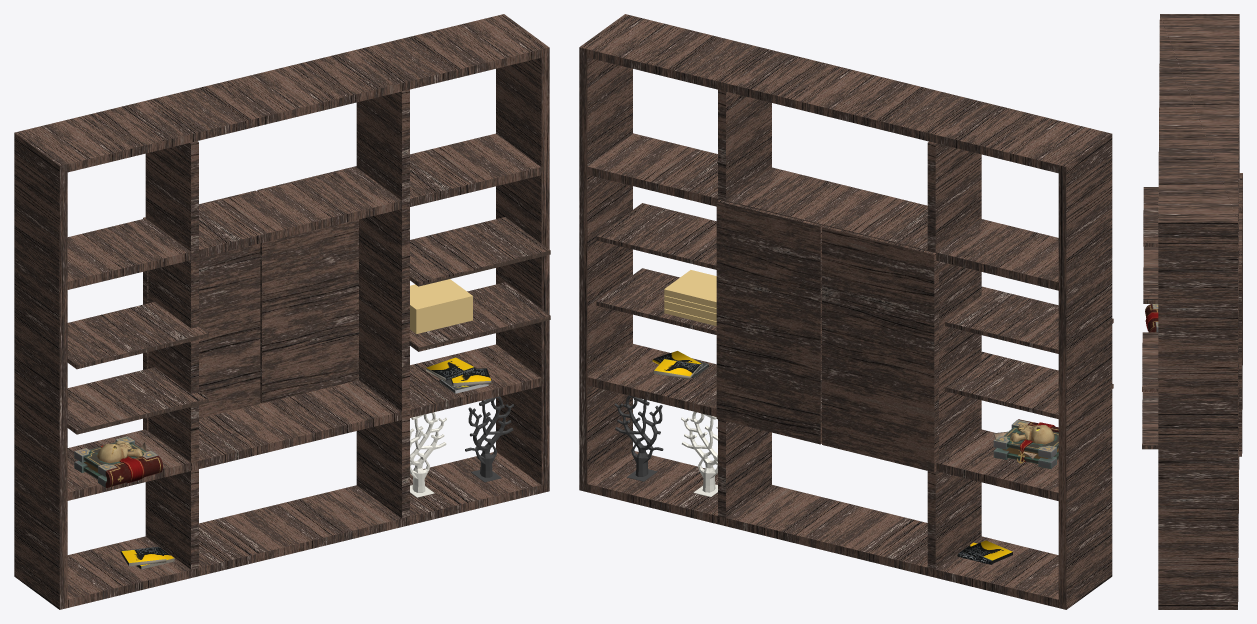
File: book shelf .fbx
The picture shows the model from 3 angles, left to right: view 1: azimuth 30°, elevation 25°; view 2: azimuth 150°, elevation 25°; view 3: azimuth 270°, elevation 25°; orthographic projection. The views are drawn at different scales.
Parts seen in each view (by area): view 1: Rectangle48, defaultMaterial; view 2: Rectangle48, defaultMaterial; view 3: Rectangle48, defaultMaterial.
Boxes of the visible parts, x1,y1,x2,y2 form: Rectangle48: (14,14,550,609); defaultMaterial: (74,436,162,487); Rectangle48: (579,14,1113,609); defaultMaterial: (993,419,1058,468); Rectangle48: (1142,14,1242,609); defaultMaterial: (1145,304,1158,332).
Size of the model in its own units: 730 by 632 by 149.
